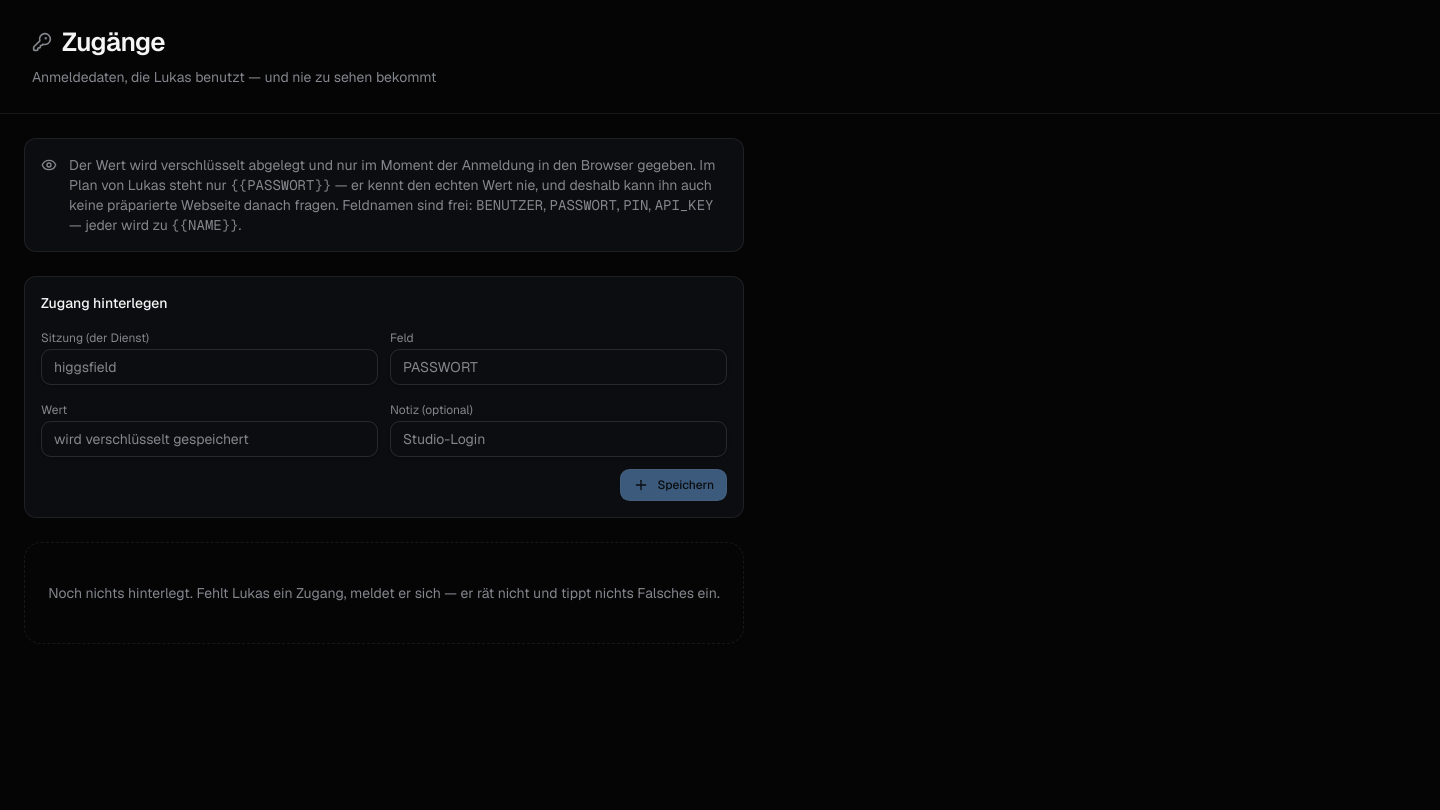
Test case: Zugänge › zeigt den Grund, wenn der Server ablehnt
The width and height of the screenshot is (1440, 810).
Expected: the text "Noch nichts hinterlegt" is shown, 48,584 -> 720,602
Type "x" into the field labelled "Sitzung (der Dienst)" at (210,367), box 41,349 -> 378,385
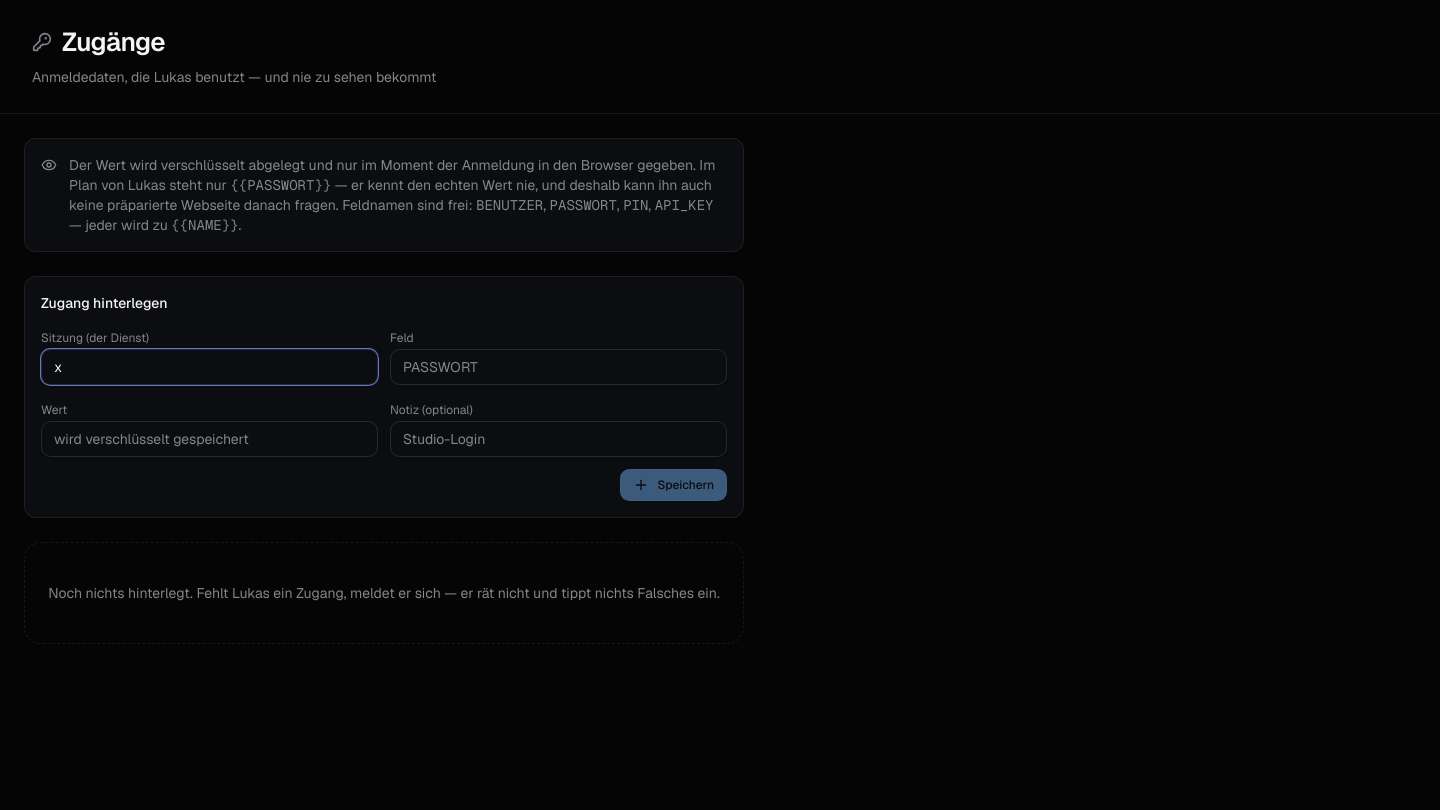
Type "y" into the field labelled "Feld" at (558,367), box 390,349 -> 727,385
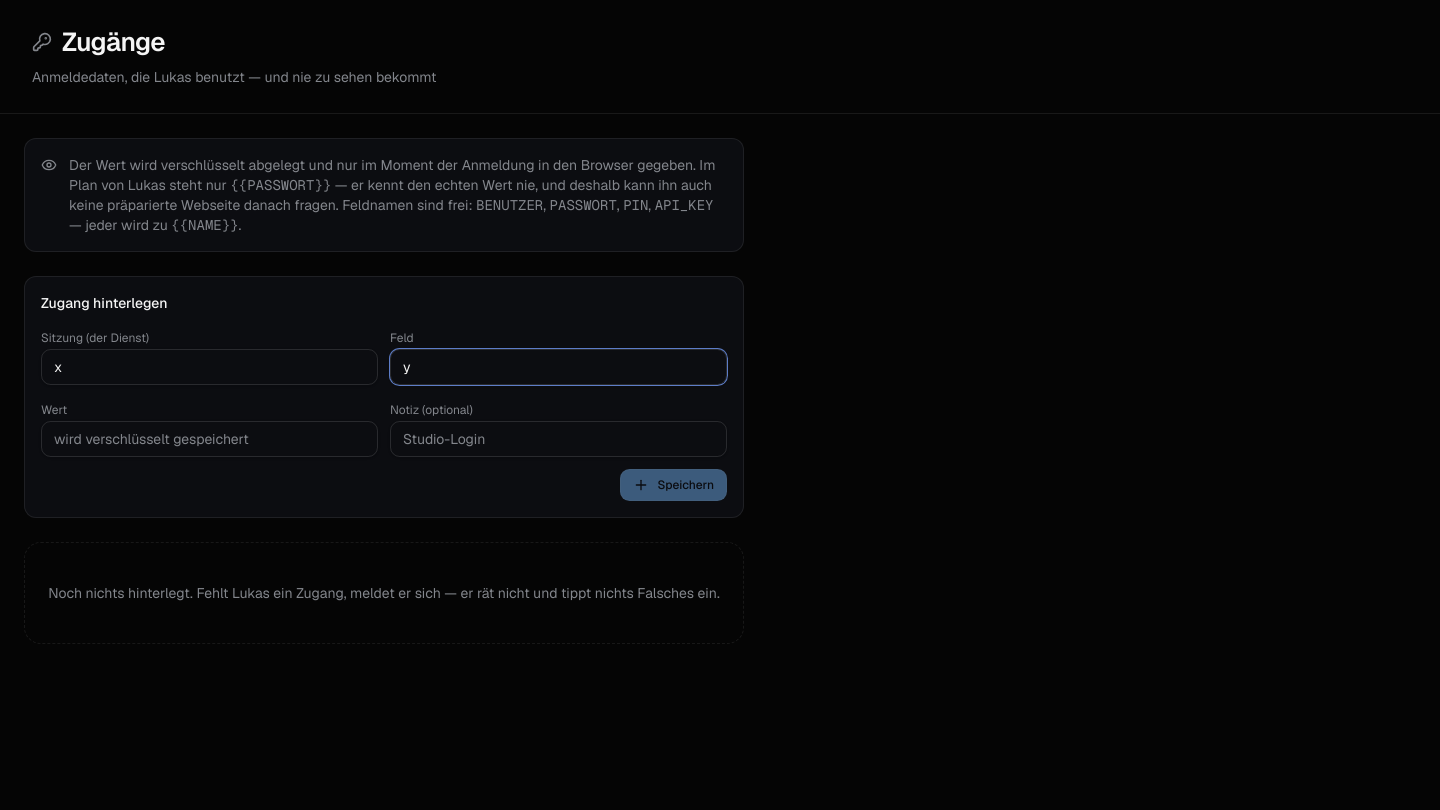
Type "z" into the password field labelled "Wert" at (210,439), box 41,421 -> 378,457
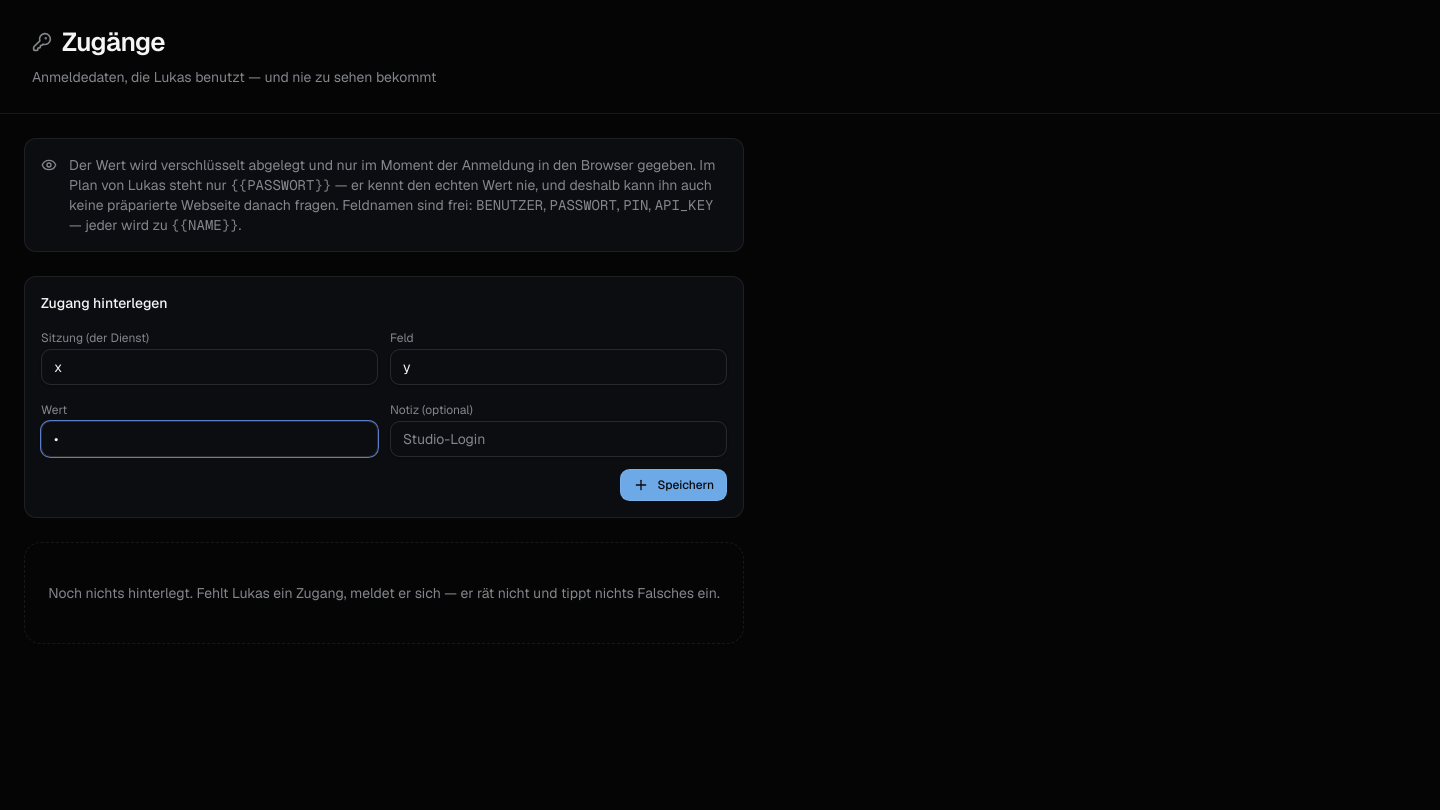
Click the button "Speichern" at (674,485), box 620,469 -> 727,501
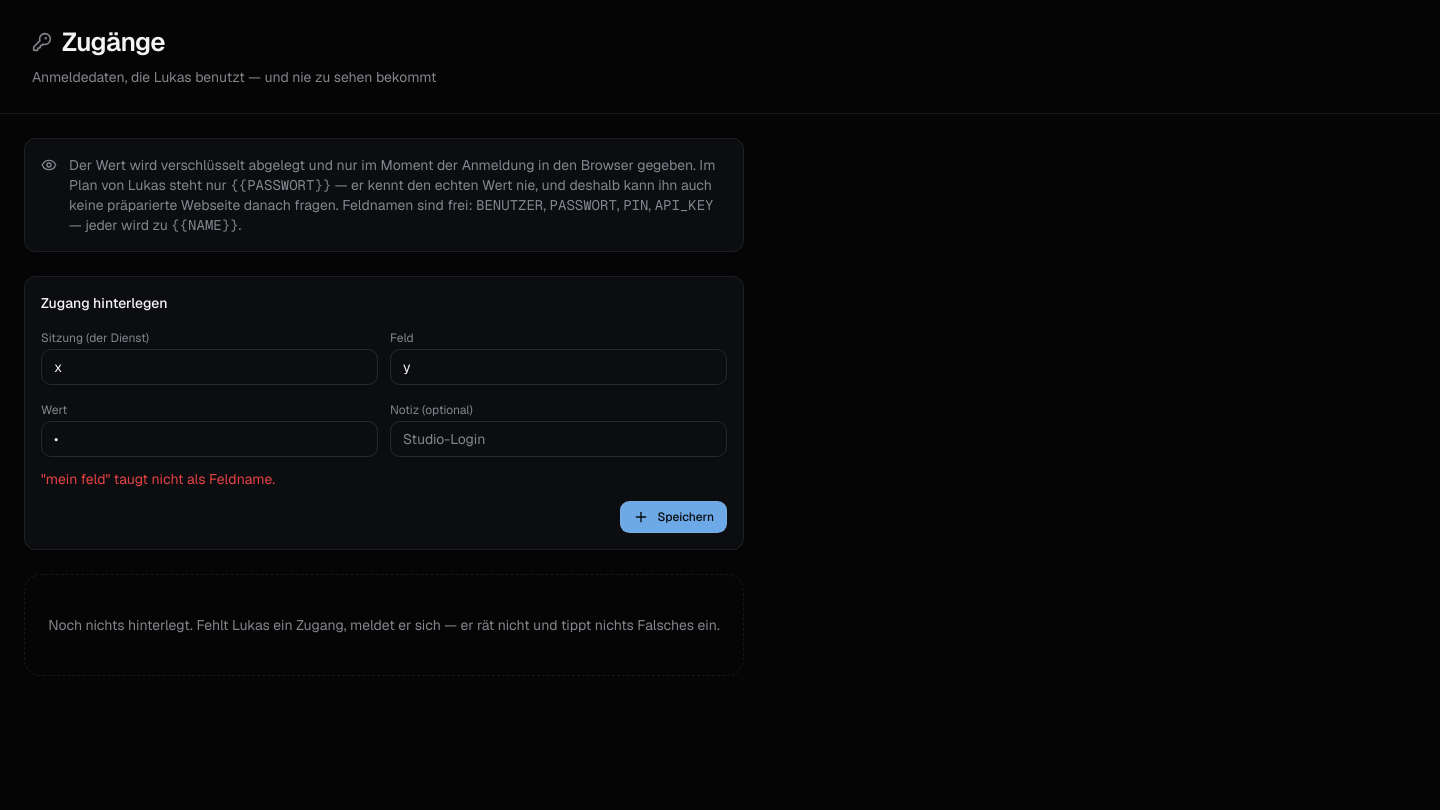
Now the text "\"mein feld\" taugt nicht als Feldname." is shown, box 41,470 -> 275,488
